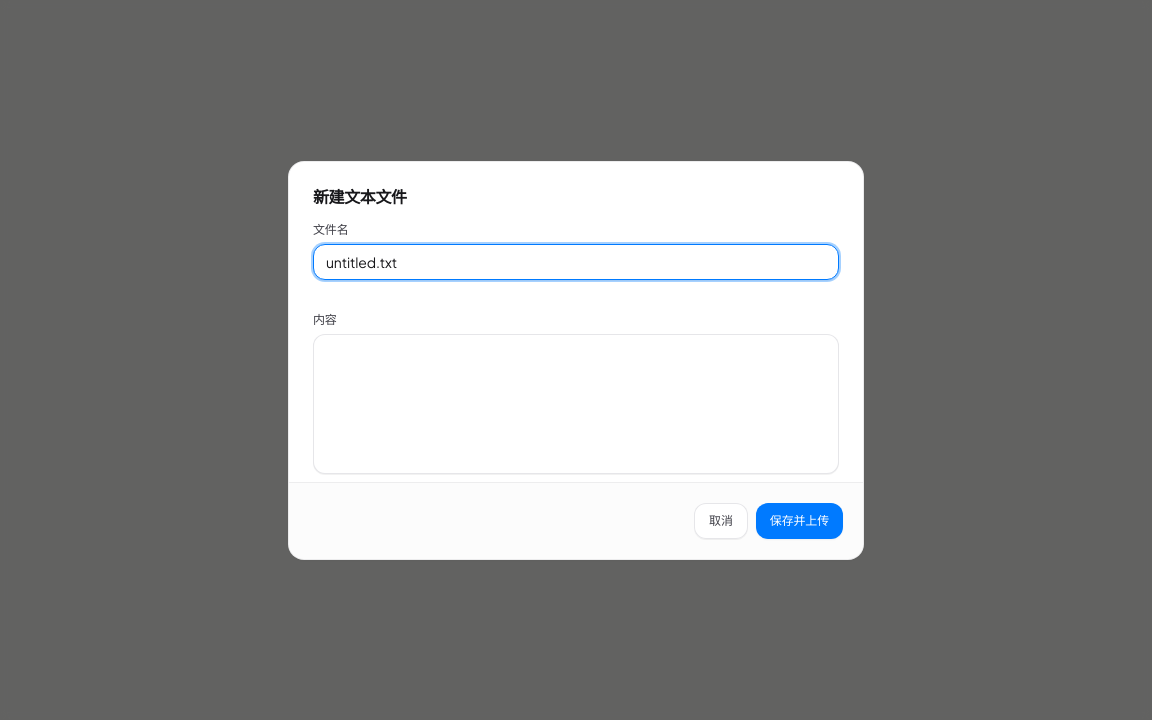
Test: TextFileDialog › 空正文提交给出提示且不回调
The image size is (1152, 720).
Click the button "保存并上传".
click(799, 520)  # box [756,502,843,538]
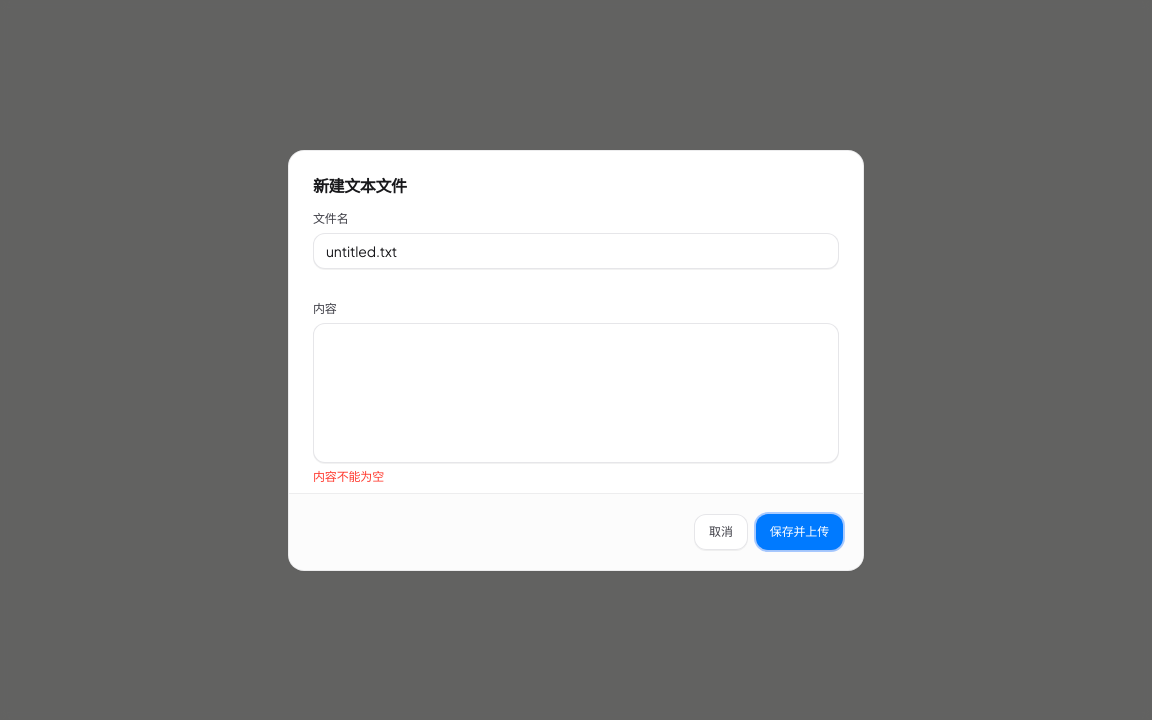
Result: the message reads "内容不能为空" at [313,468,384,484]
